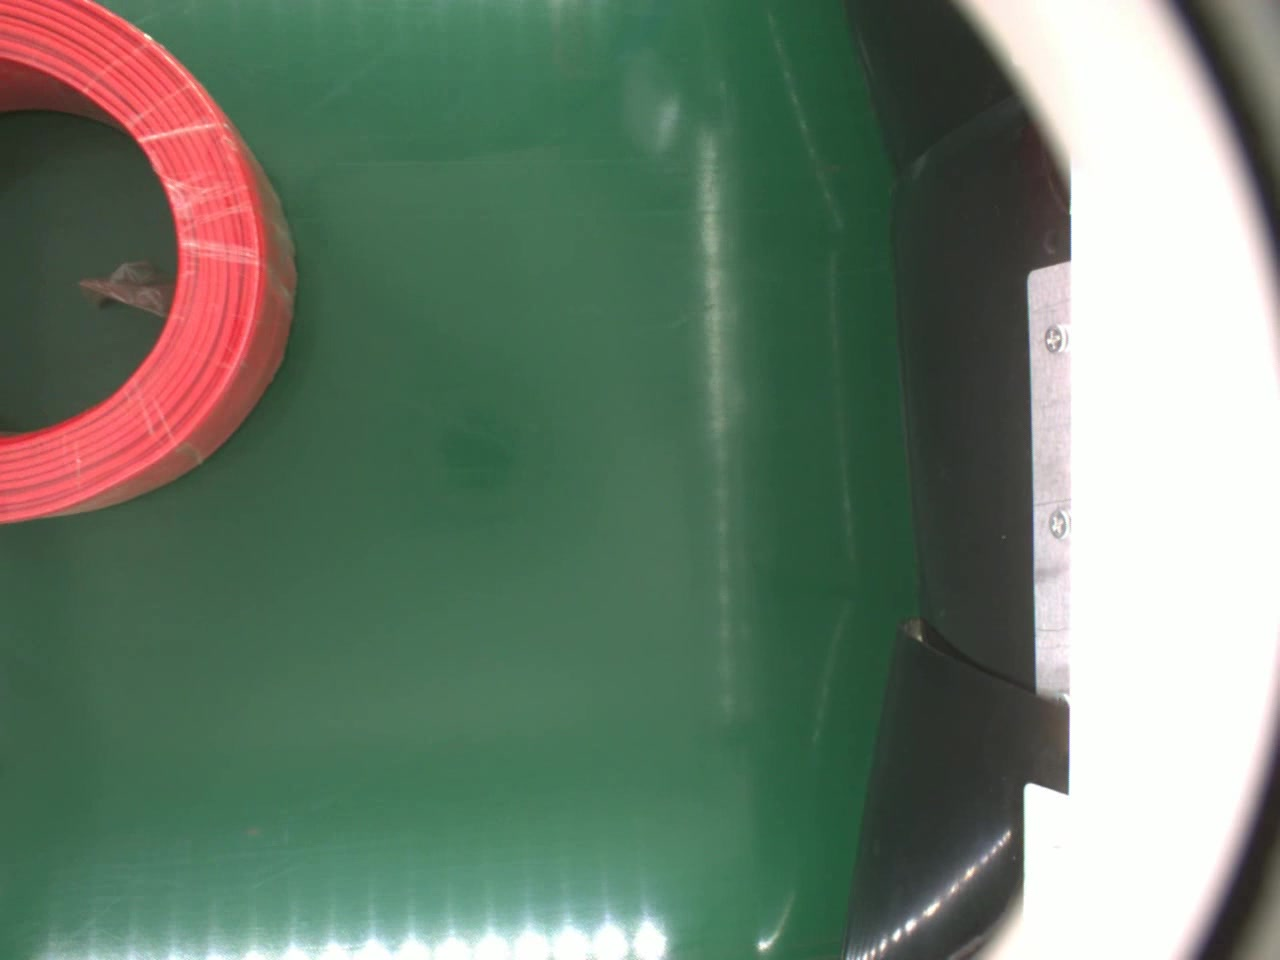red: (0, 0, 298, 528)
